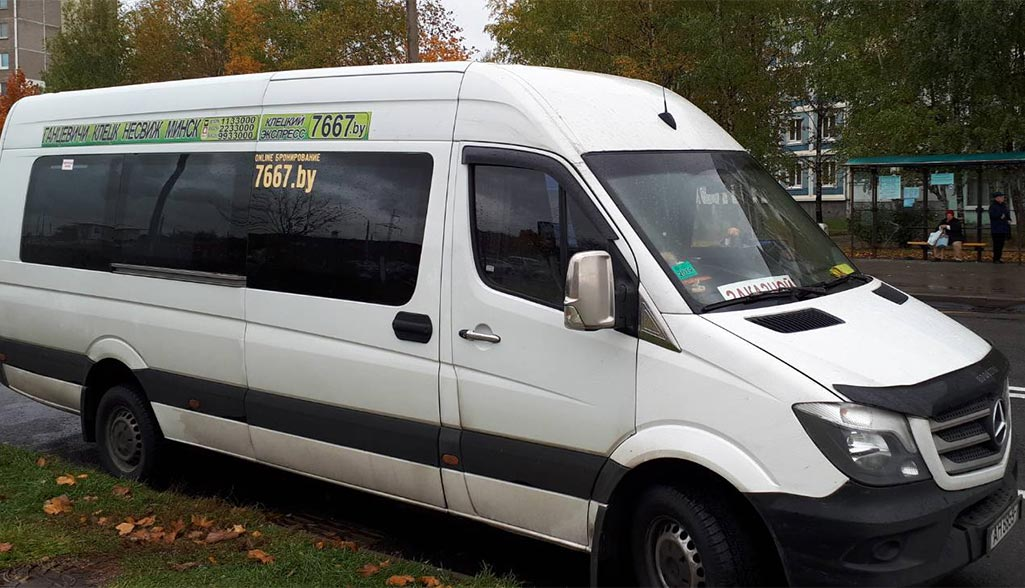van: (4, 62, 1020, 588)
